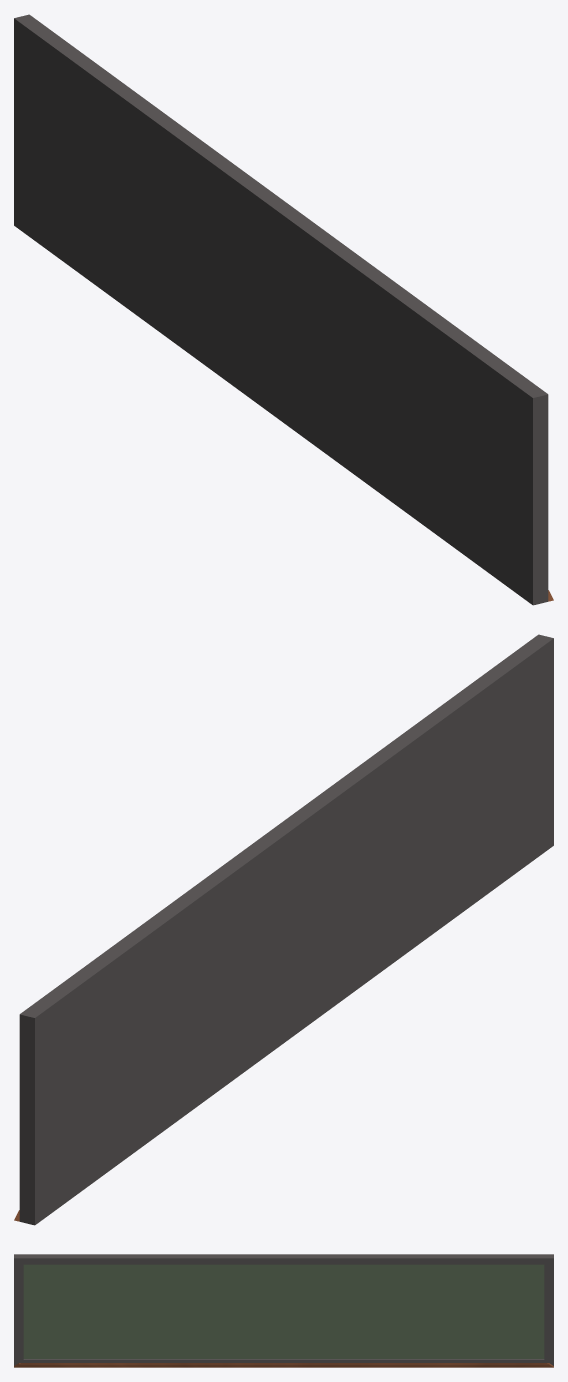
Rendered from Lousa.fbx.
3 views of the same model, one above another, from view 1: azimuth 30°, elevation 25°; view 2: azimuth 150°, elevation 25°; view 3: azimuth 270°, elevation 25° (orthographic). The views are drawn at different scales.
Parts seen in each view (by area): view 1: Cube; view 2: Cube; view 3: Cube.
Boxes of the visible parts, left/top/right/bottom form: Cube: left=14, top=14, right=553, bottom=605; Cube: left=14, top=634, right=553, bottom=1225; Cube: left=14, top=1254, right=553, bottom=1367.
Size of the model in its own units: 23.17 by 219 by 993.
3 materials, 1 textured.
